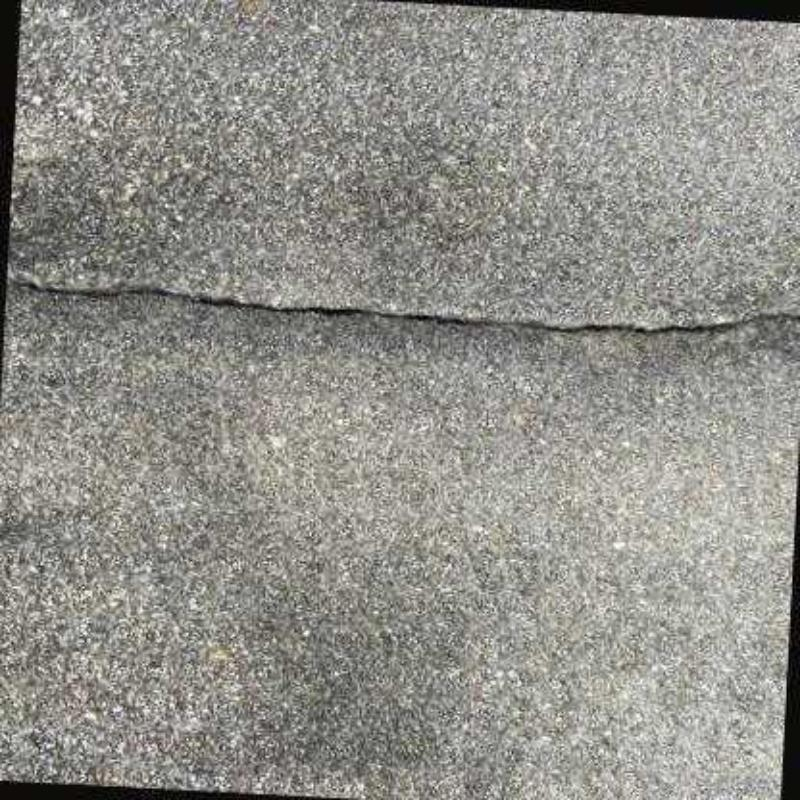pothole: (6, 282, 798, 336)
